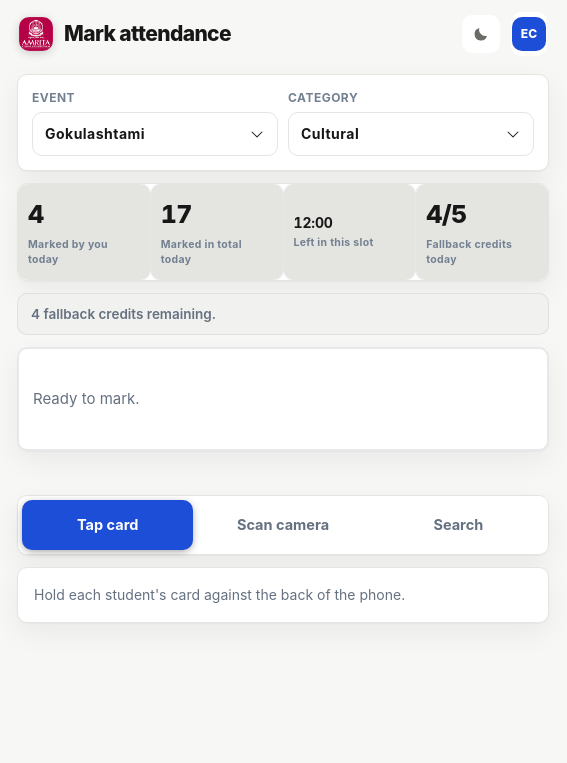
it: the AR20 no-list guarantee › [P0] the roster leaves no residue in the query cache once the search is closed
The width and height of the screenshot is (567, 763).
Click the button "Search".
click(458, 525)  # box x1=373 y1=500 x2=544 y2=550
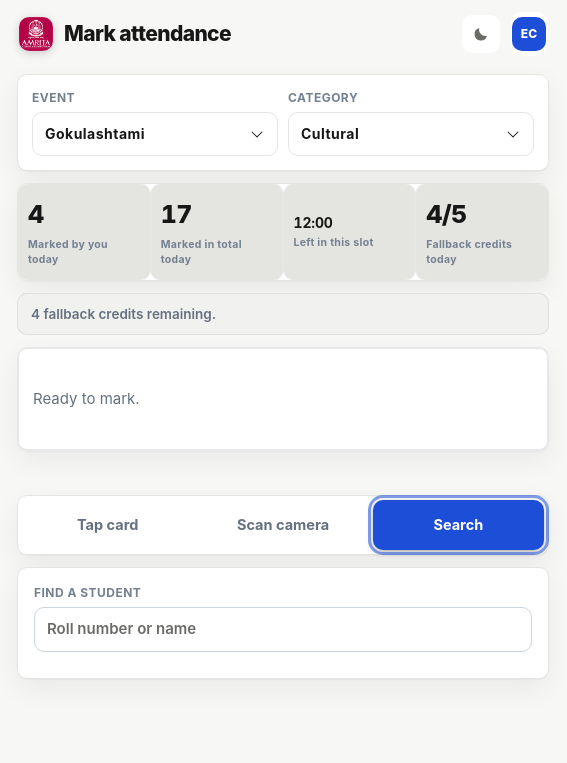
Type "CB.SC.U4CSE99001" into the search field.
click(283, 630); type("CB.SC.U4CSE99001")  # box x1=34 y1=607 x2=532 y2=652
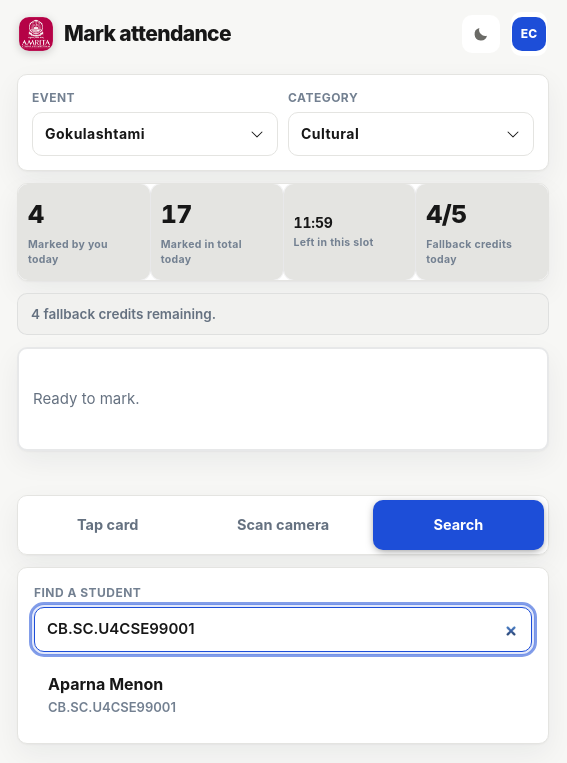
expect the text "Aparna Menon" is shown: met, box x1=48 y1=672 x2=163 y2=696
Click the button "Tap card".
click(108, 525)  # box x1=22 y1=500 x2=193 y2=550
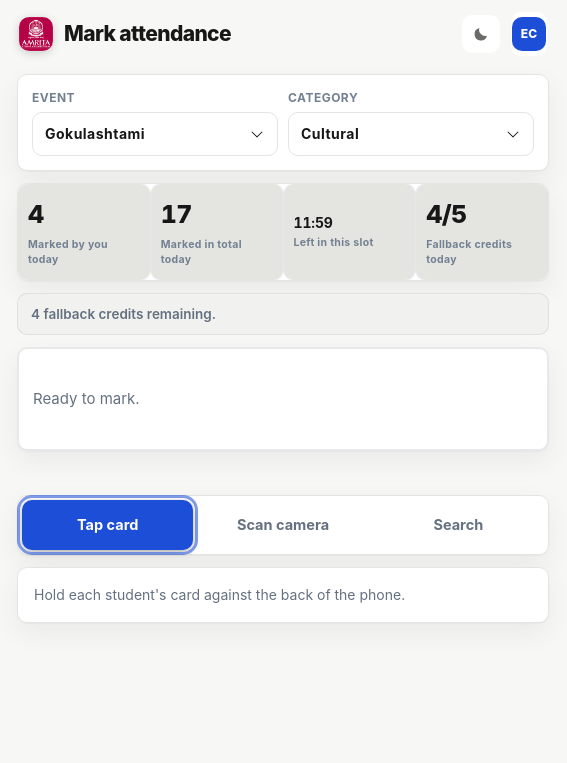
expect the text "CB.SC.U4CSE99001" is gone: met
